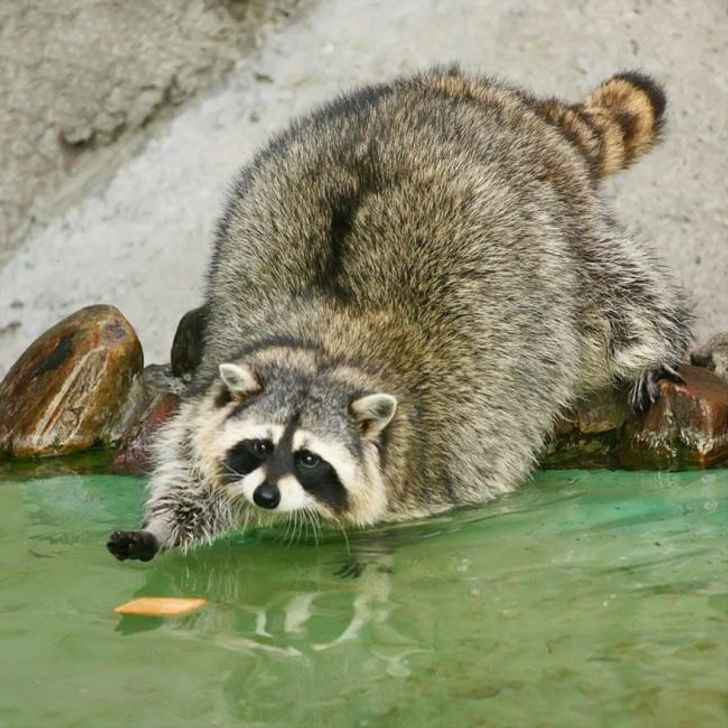raccoon: (148, 73, 658, 538)
